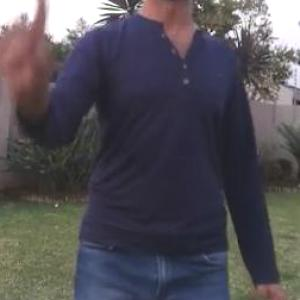takeoff-hand: (0, 0, 65, 103)
